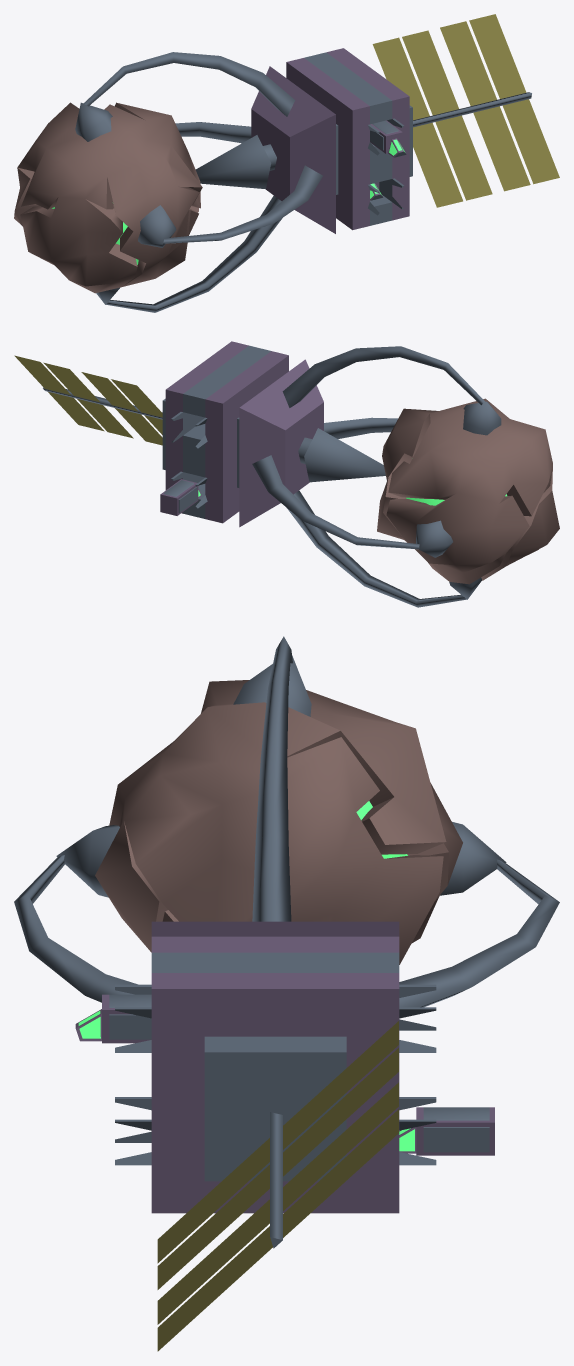
Rendered from Asteroid_TypeB_Grabber.fbx.
The picture shows the model from 3 angles, top to bottom: view 1: azimuth 30°, elevation 25°; view 2: azimuth 150°, elevation 25°; view 3: azimuth 270°, elevation 25°; orthographic projection. The views are drawn at different scales.
Visible parts, largest first — view 1: Asteroid_TypeB_Grabber_01; view 2: Asteroid_TypeB_Grabber_01; view 3: Asteroid_TypeB_Grabber_01.
Boxes of the visible parts, <box> form: Asteroid_TypeB_Grabber_01: <box>14,14,559,312</box>; Asteroid_TypeB_Grabber_01: <box>14,341,559,607</box>; Asteroid_TypeB_Grabber_01: <box>14,636,559,1351</box>.
Bounding box in the file's own units: 1.41 × 0.6851 × 0.7043.
